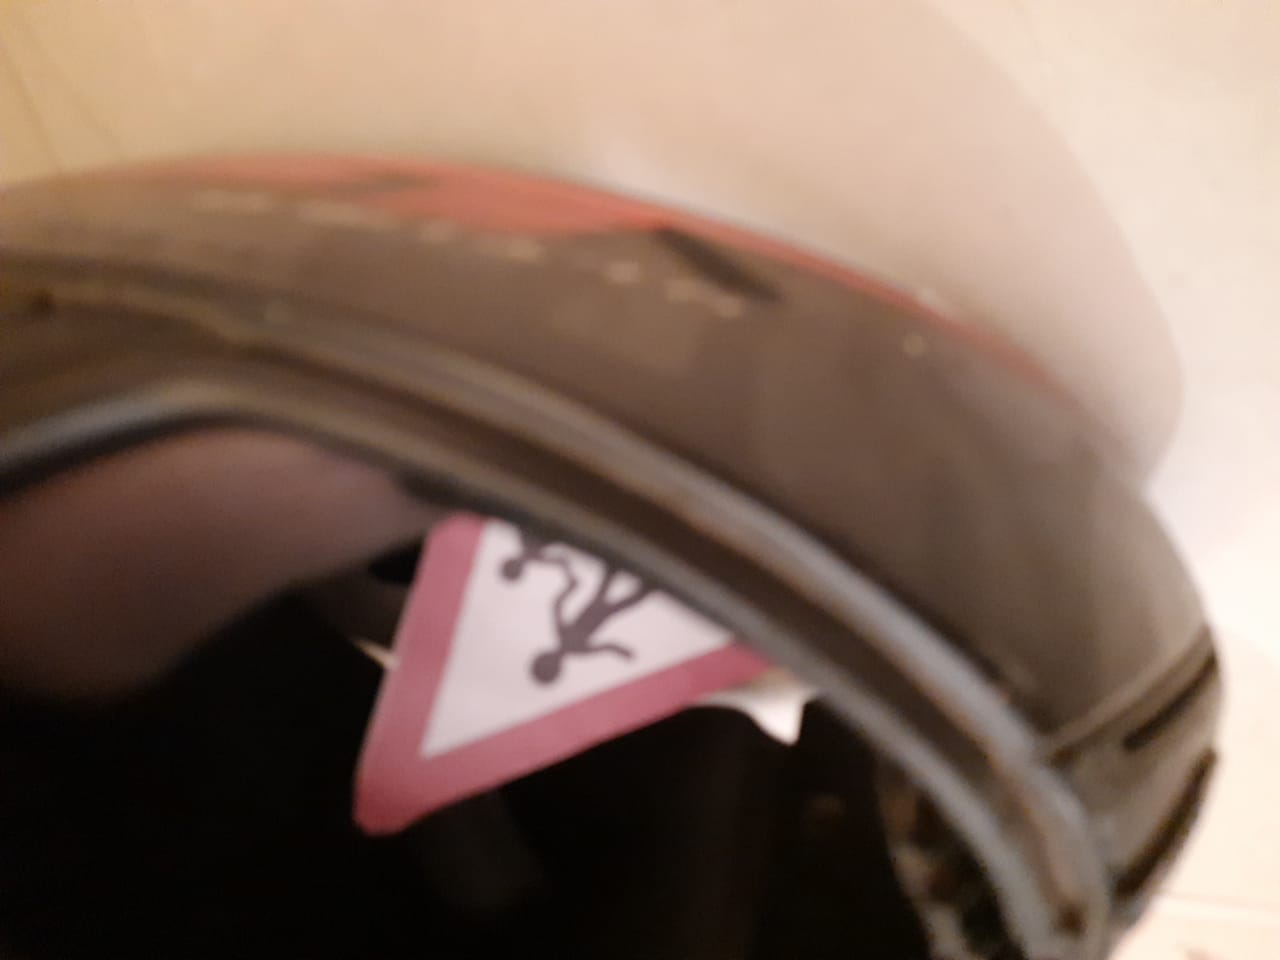SCHOOL ZONE: (334, 419, 805, 852)
